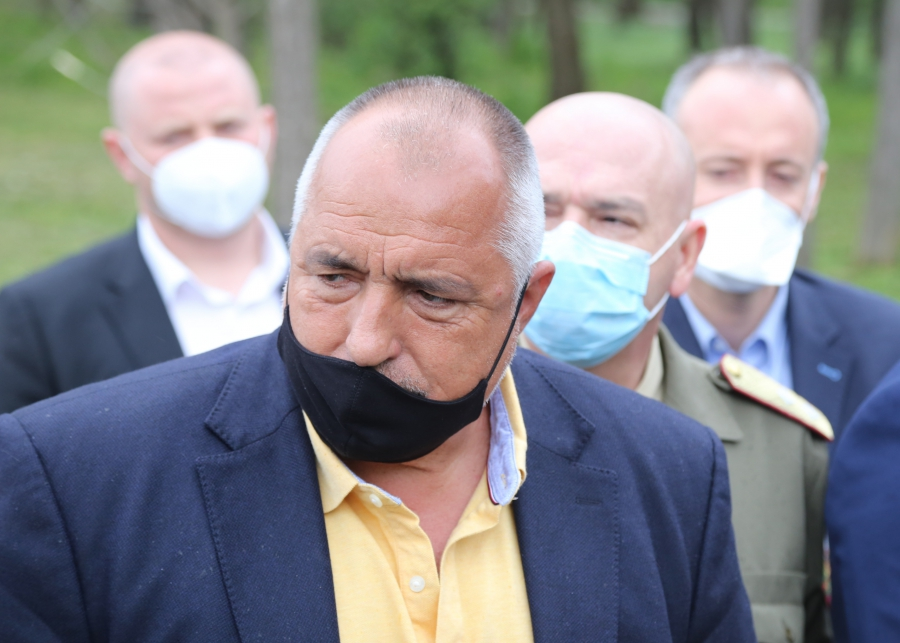WrongMask: (276, 297, 518, 472)
